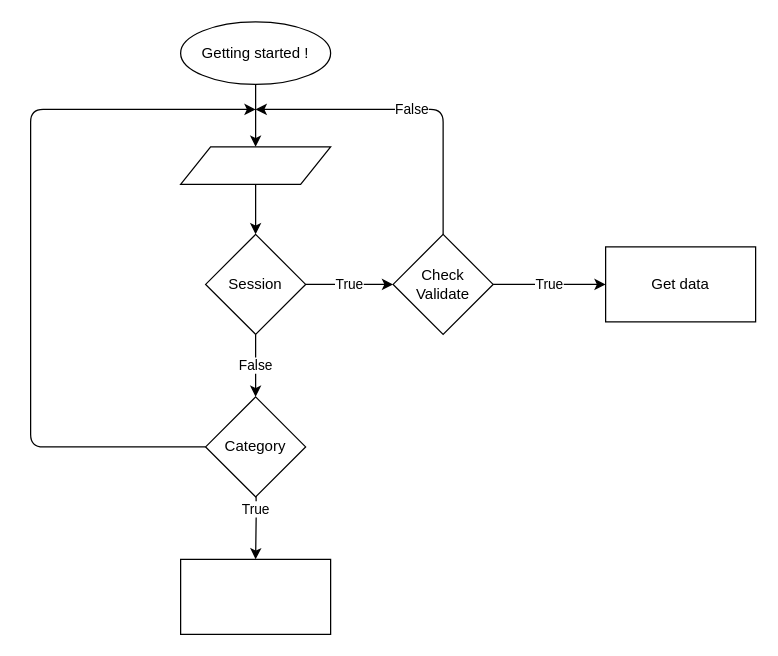
Some shapes in this 778 by 656 pixel diagram are drawn without their labels. Here are the shapes that lost their labels. From the top down, the box of each, then its label:
(179, 146, 331, 184): Text
(179, 558, 331, 634): Create session
